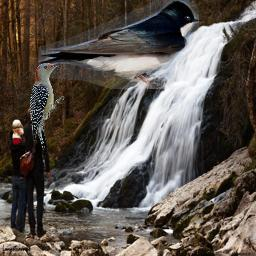Swallow: (38, 0, 199, 89)
Woodpecker: (30, 59, 66, 160)
